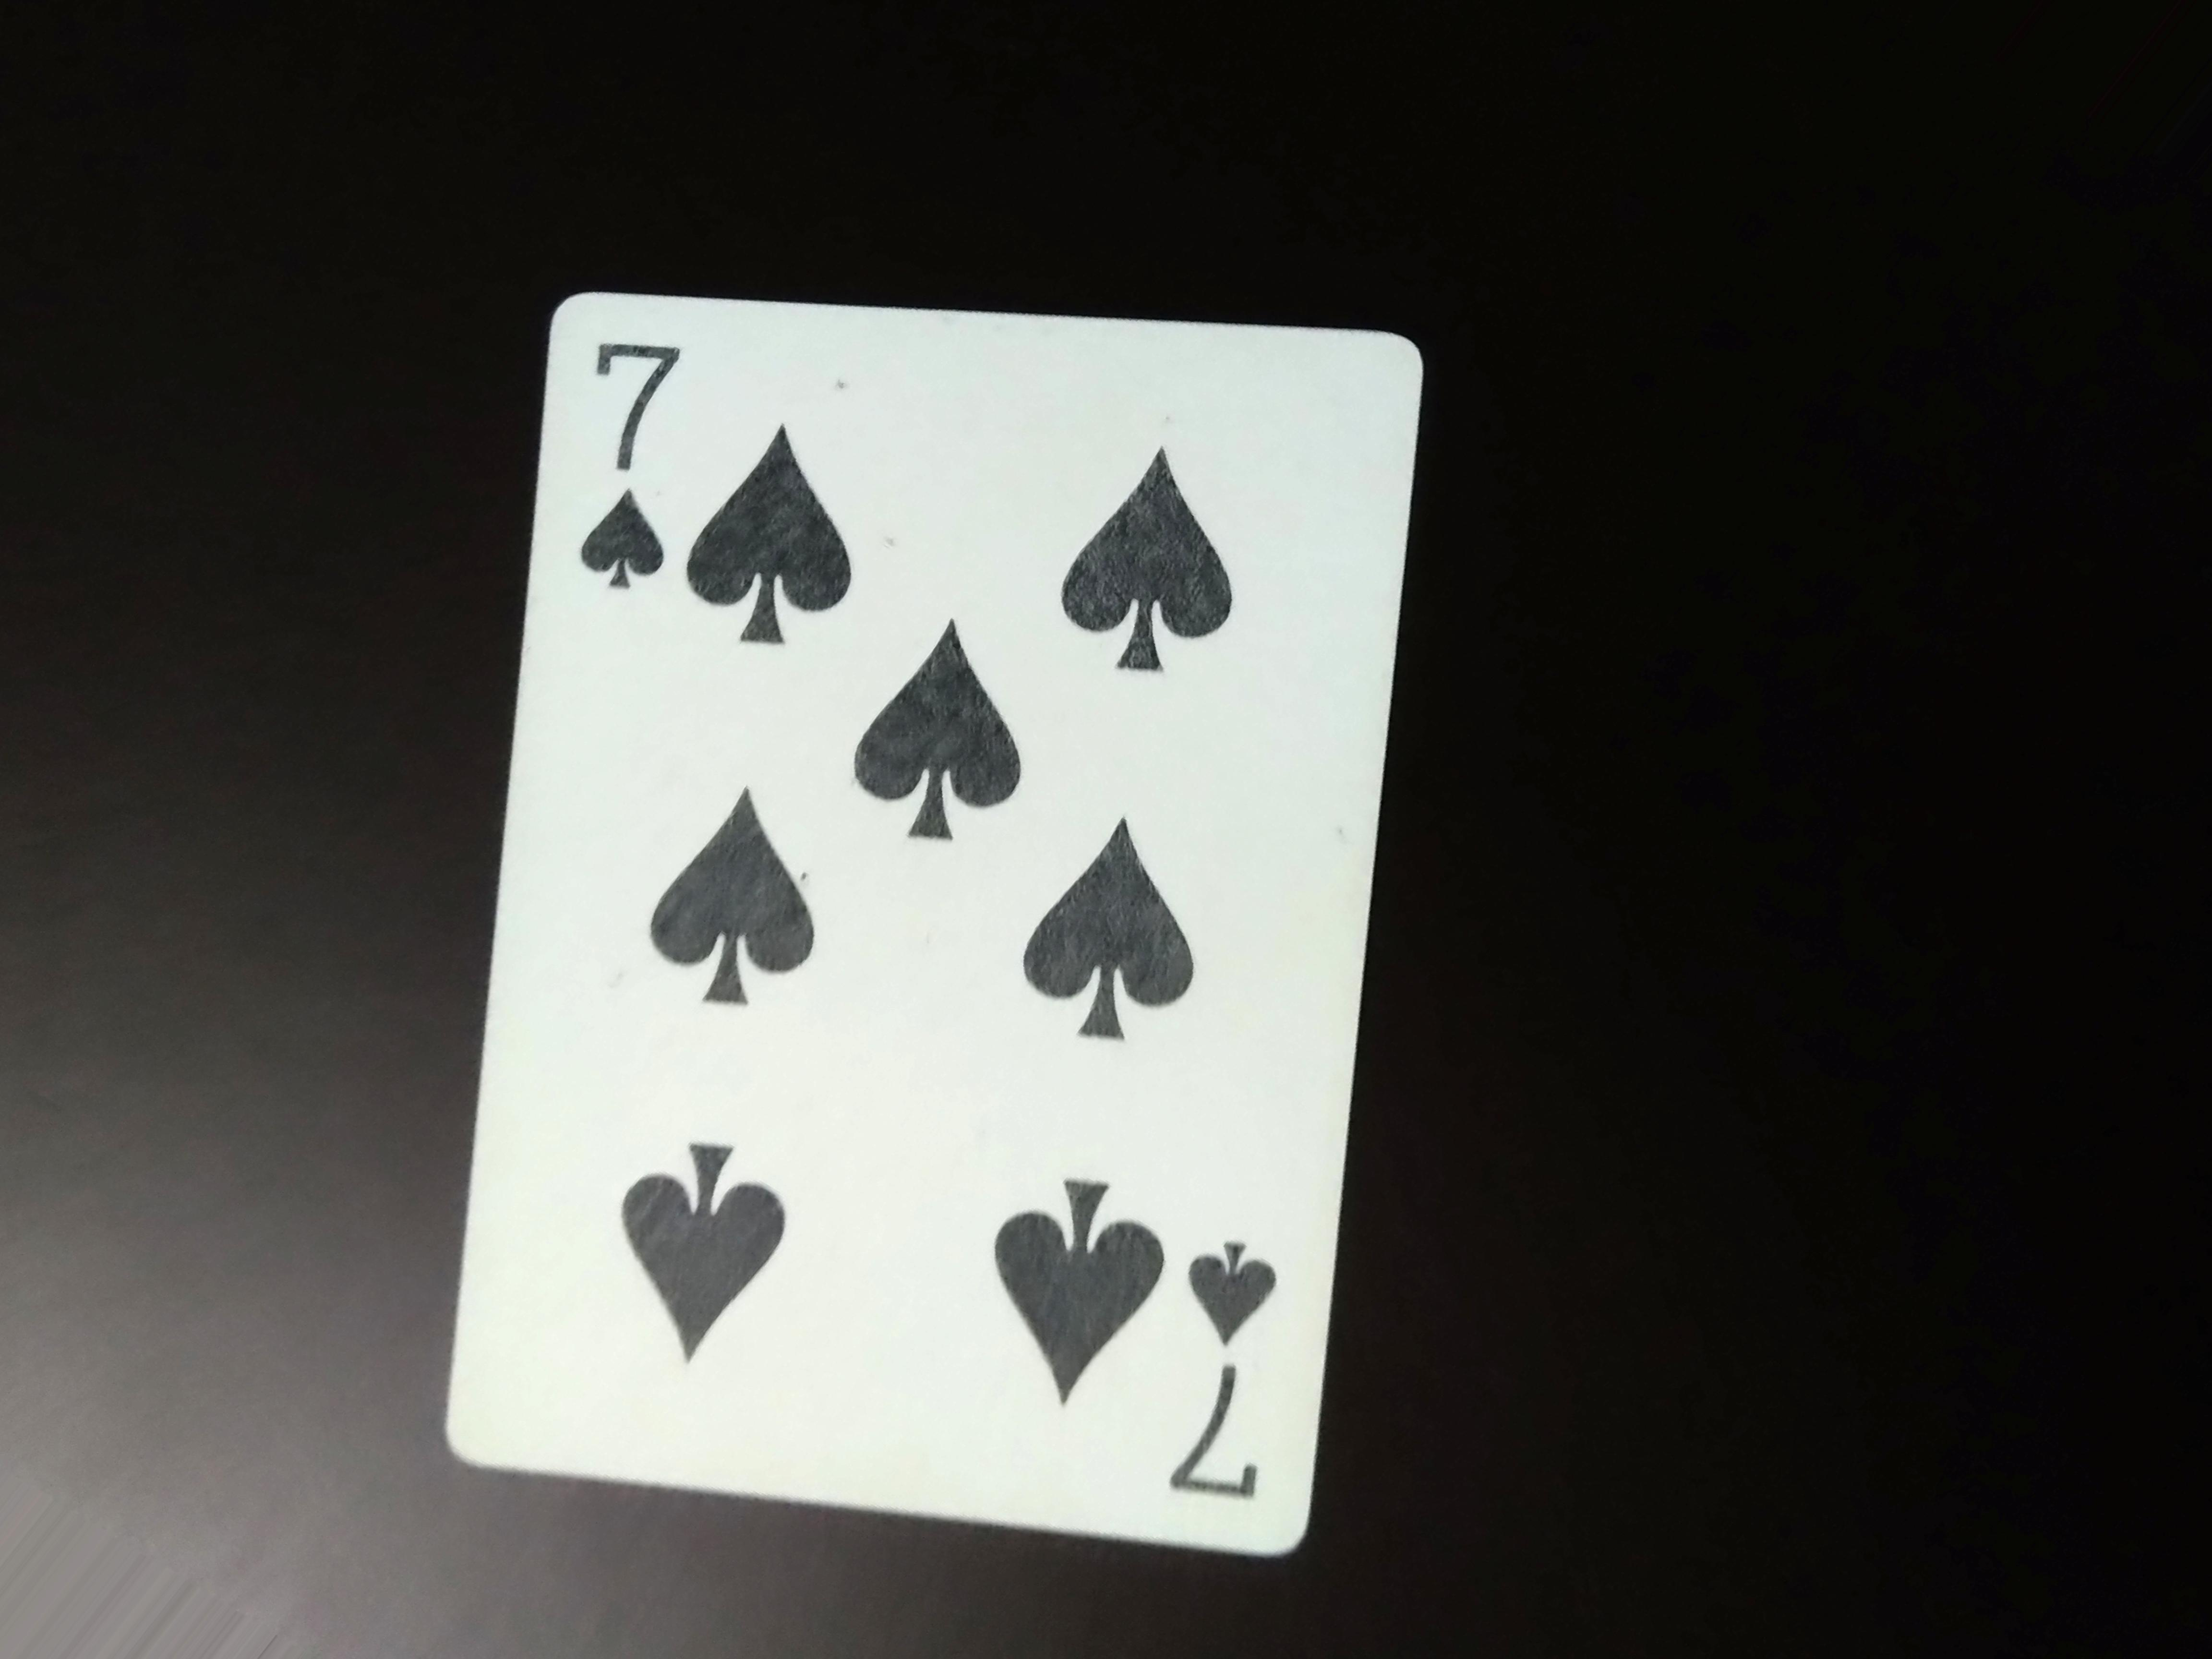7S: (568, 315, 700, 653)
